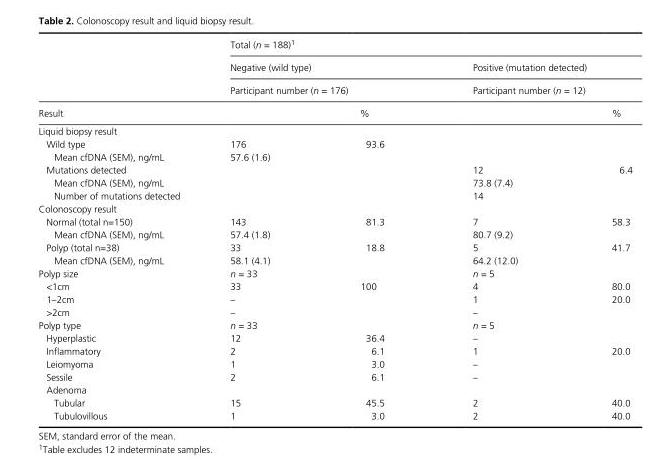table: (37, 37, 631, 420)
table column: (37, 37, 204, 420), (427, 37, 564, 420), (314, 37, 427, 420), (204, 37, 314, 420), (564, 37, 631, 420)
table column header: (37, 37, 631, 121)
table projected row header: (37, 121, 631, 137), (37, 201, 631, 214), (37, 382, 631, 395)
table row: (37, 55, 631, 78), (37, 78, 631, 101), (37, 101, 631, 121), (37, 37, 631, 55), (37, 121, 631, 137), (37, 137, 631, 150), (37, 162, 631, 175), (37, 175, 631, 188), (37, 188, 631, 201), (37, 201, 631, 214), (37, 214, 631, 227), (37, 227, 631, 240), (37, 240, 631, 253), (37, 253, 631, 266), (37, 266, 631, 279), (37, 279, 631, 292), (37, 292, 631, 305), (37, 305, 631, 318), (37, 318, 631, 331), (37, 331, 631, 344), (37, 344, 631, 357), (37, 357, 631, 370), (37, 382, 631, 395), (37, 395, 631, 408), (37, 150, 631, 162), (37, 370, 631, 382), (37, 408, 631, 420)
table spanning cell: (37, 37, 204, 121), (204, 55, 427, 101), (427, 55, 631, 101), (204, 37, 631, 55)
